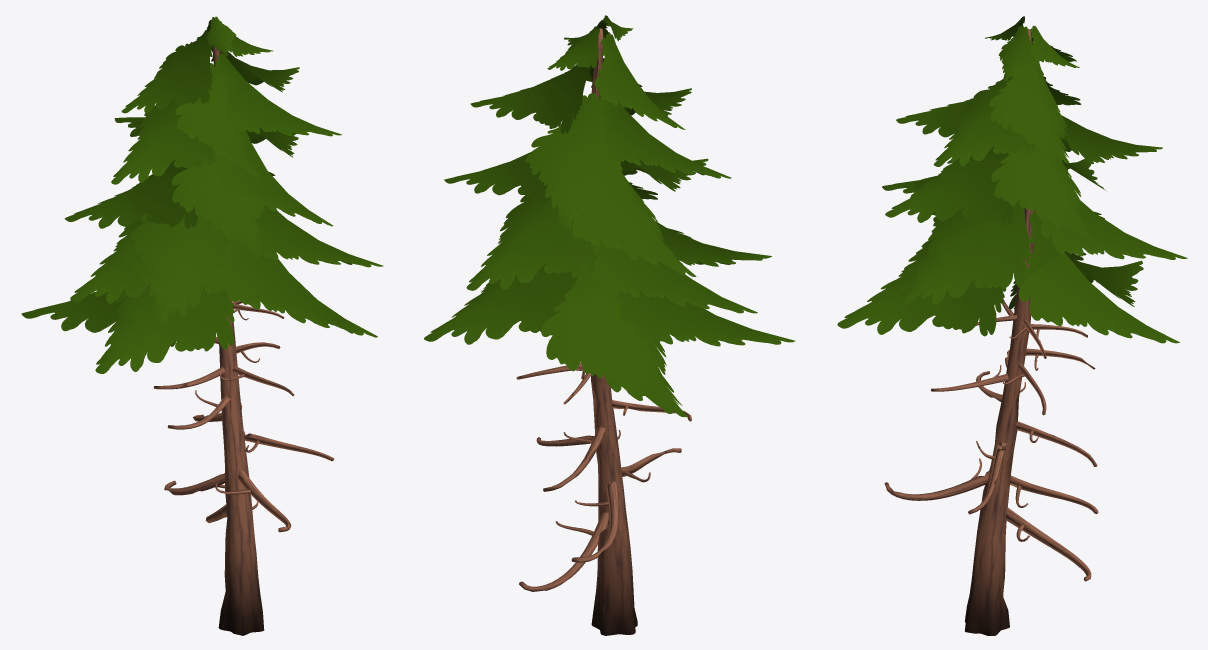
File: Pine_3.glb
The picture shows the model from 3 angles, left to right: view 1: azimuth 30°, elevation 25°; view 2: azimuth 150°, elevation 25°; view 3: azimuth 270°, elevation 25°; orthographic projection. The views are drawn at different scales.
Visible parts, largest first — view 1: Pine_3; view 2: Pine_3; view 3: Pine_3.
Boxes of the visible parts, <box> form: Pine_3: <box>21,16,383,635</box>; Pine_3: <box>424,15,795,635</box>; Pine_3: <box>837,16,1187,635</box>.
Bounding box in the file's own units: 3.61 × 7.39 × 4.
Materials: 2 (2 with a texture image).
